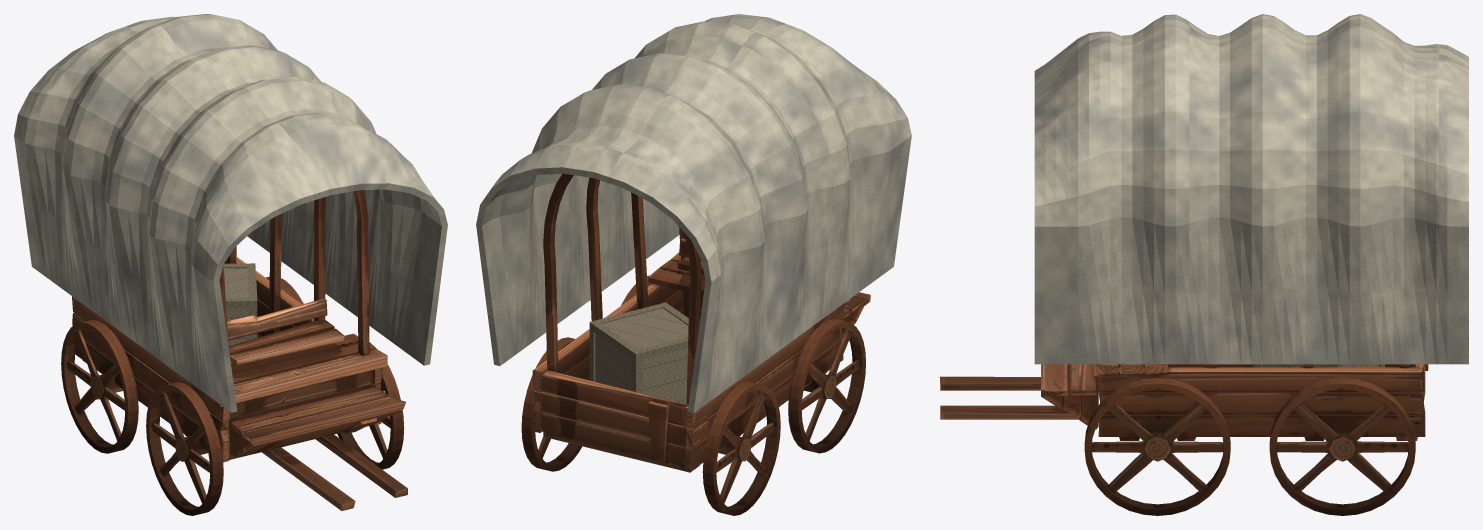
Rendered from opus55_t04.glb.
3 renders of one model, left to right at view 1: azimuth 30°, elevation 25°; view 2: azimuth 150°, elevation 25°; view 3: azimuth 270°, elevation 25°, orthographic. The views are drawn at different scales.
Parts seen in each view (by area): view 1: slot_canopy_beige, slot_anchor_frame, slot_front_wheels, slot_bed_crate; view 2: slot_canopy_beige, slot_anchor_frame, slot_bed_crate, slot_front_wheels; view 3: slot_canopy_beige, slot_anchor_frame, slot_front_wheels.
Part boxes in pixels (x1,y1,x2,y2): slot_canopy_beige: [14, 14, 447, 412]; slot_anchor_frame: [61, 190, 407, 510]; slot_front_wheels: [146, 342, 404, 515]; slot_bed_crate: [223, 263, 257, 363]; slot_canopy_beige: [476, 14, 911, 413]; slot_anchor_frame: [521, 173, 870, 515]; slot_bed_crate: [589, 302, 688, 403]; slot_front_wheels: [621, 275, 865, 453]; slot_canopy_beige: [1034, 14, 1468, 364]; slot_anchor_frame: [940, 364, 1428, 515]; slot_front_wheels: [1084, 378, 1230, 515].
Bounding box in the file's own units: 1.18 × 1.94 × 2.12.
5 materials, 5 textured.
